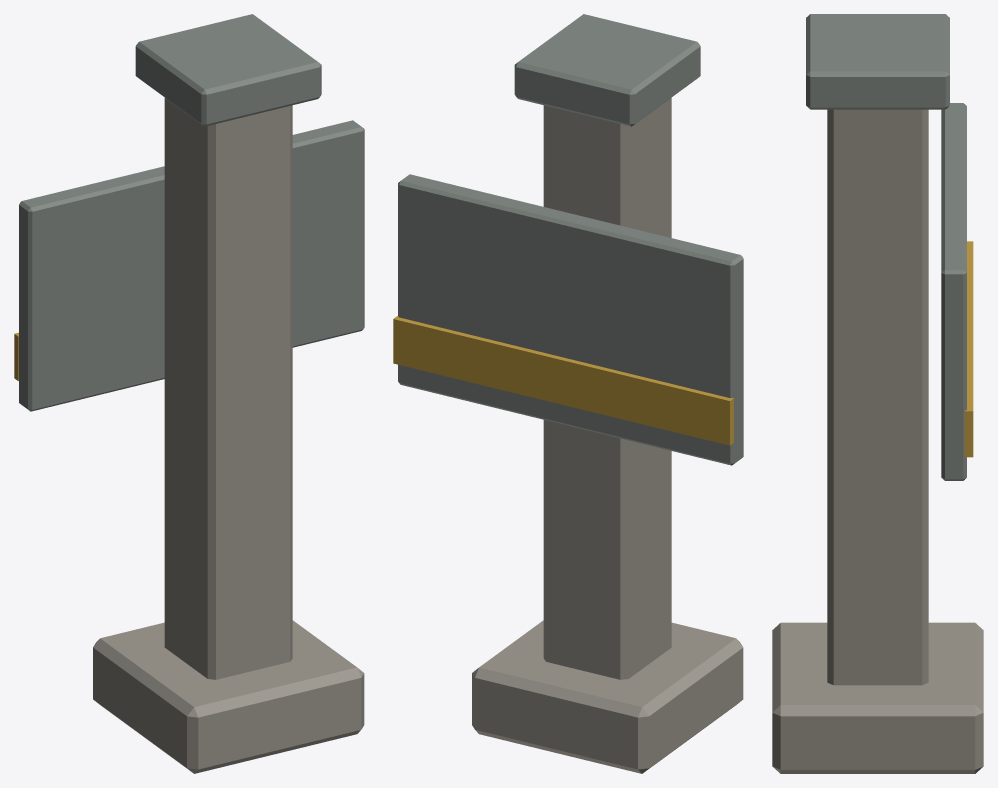
Rendered from ENV_Gatepost.glb.
The picture shows the model from 3 angles, left to right: view 1: azimuth 30°, elevation 25°; view 2: azimuth 150°, elevation 25°; view 3: azimuth 270°, elevation 25°; orthographic projection. The views are drawn at different scales.
Parts seen in each view (by area): view 1: Gatepost_Post, Gatepost_Placard, Gatepost_Base, Gatepost_Cap; view 2: Gatepost_Placard, Gatepost_Post, Gatepost_Base, Gatepost_Stripe, Gatepost_Cap; view 3: Gatepost_Post, Gatepost_Base, Gatepost_Cap, Gatepost_Placard, Gatepost_Stripe.
Boxes of the visible parts, x1,y1,x2,y2 form: Gatepost_Post: (164, 98, 292, 679); Gatepost_Placard: (19, 120, 364, 411); Gatepost_Base: (93, 620, 364, 773); Gatepost_Cap: (135, 14, 321, 126); Gatepost_Placard: (398, 174, 743, 465); Gatepost_Post: (543, 97, 671, 679); Gatepost_Base: (472, 620, 743, 773); Gatepost_Stripe: (393, 316, 733, 445); Gatepost_Cap: (514, 14, 700, 126); Gatepost_Post: (827, 109, 928, 685); Gatepost_Base: (772, 622, 983, 773); Gatepost_Cap: (806, 14, 949, 109); Gatepost_Placard: (941, 103, 966, 480); Gatepost_Stripe: (964, 241, 973, 457).
Size of the model in its own units: 0.95 by 1.8 by 0.5.
